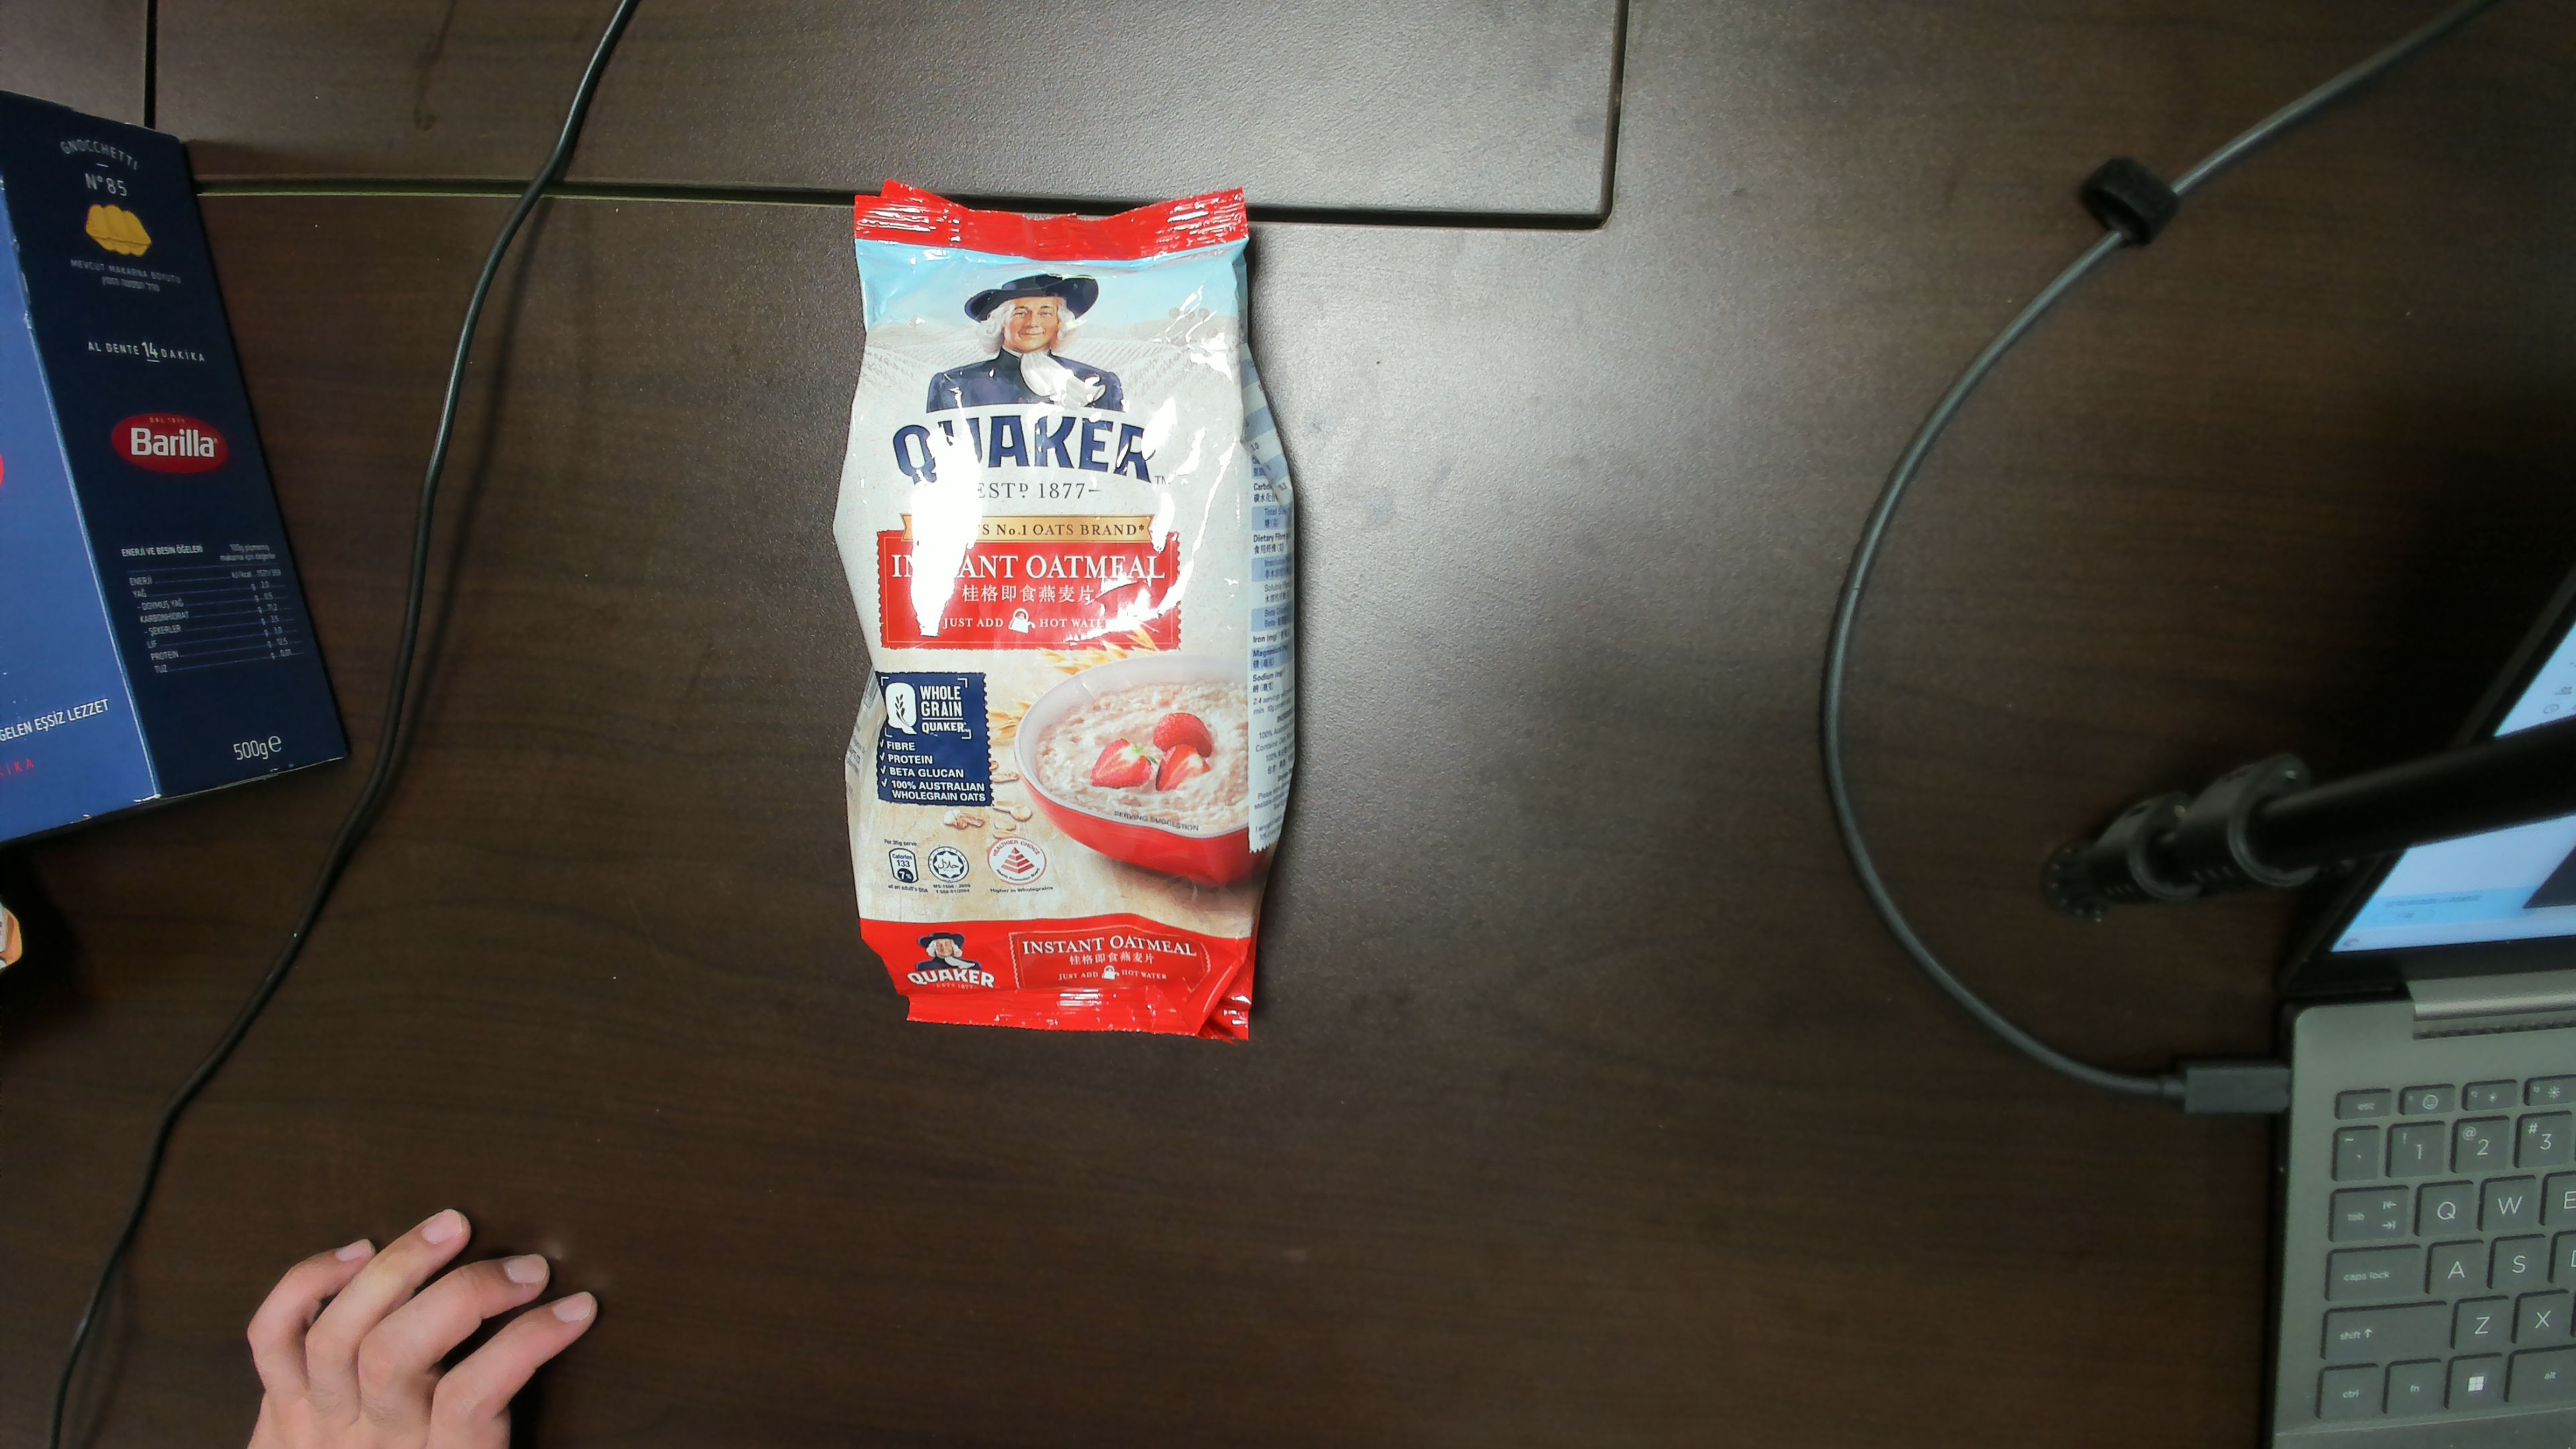RolledOatsInstantOatmeal_400-499g_Halal_Healthy: (855, 214, 1293, 1026)
